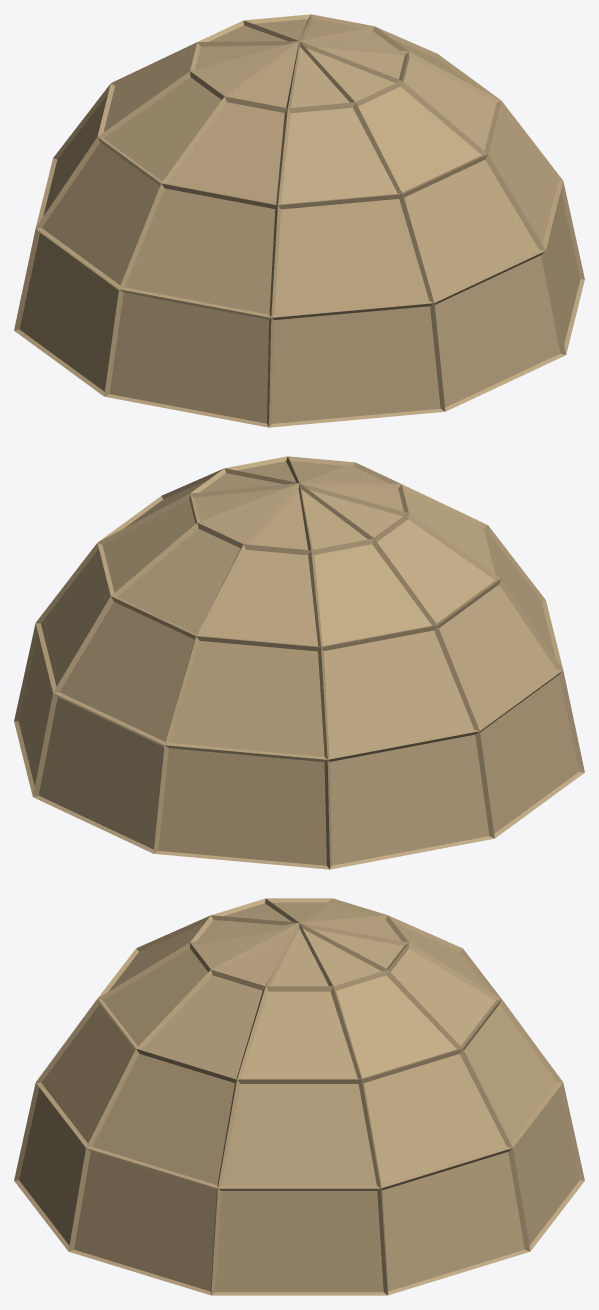
File: chicken_coop.glb
3 views of the same model, one above another, from view 1: azimuth 30°, elevation 25°; view 2: azimuth 150°, elevation 25°; view 3: azimuth 270°, elevation 25° (orthographic). The views are drawn at different scales.
Parts seen in each view (by area): view 1: chicken_coop; view 2: chicken_coop; view 3: chicken_coop.
Boxes of the visible parts, x1,y1,x2,y2 form: chicken_coop: [14, 14, 584, 427]; chicken_coop: [14, 456, 584, 869]; chicken_coop: [14, 898, 584, 1295].
Bounding box in the file's own units: 1.06 × 0.559 × 1.11.
